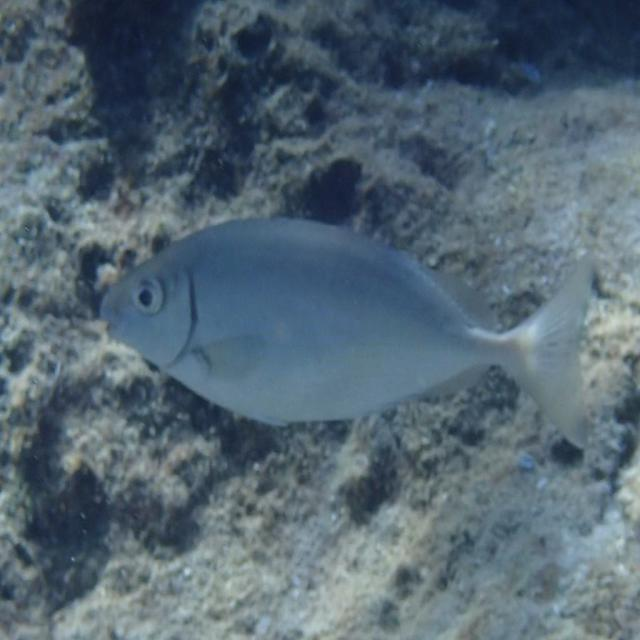Sokar Baligi: (88, 195, 620, 482)
